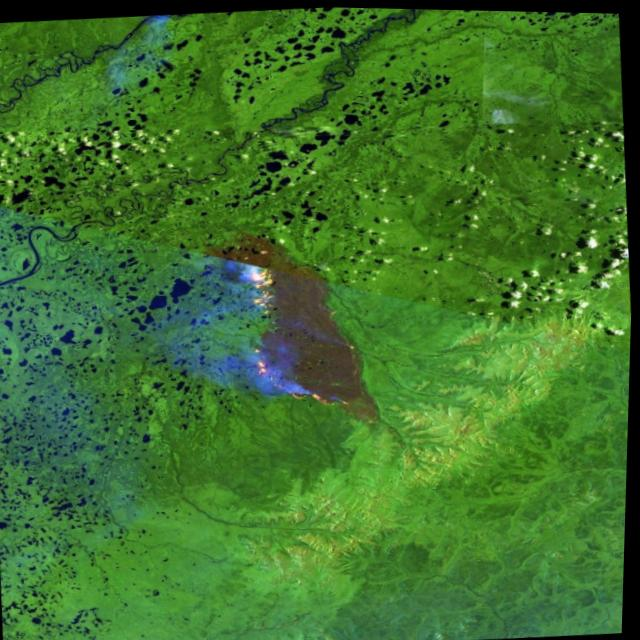fire: (227, 235, 349, 417)
